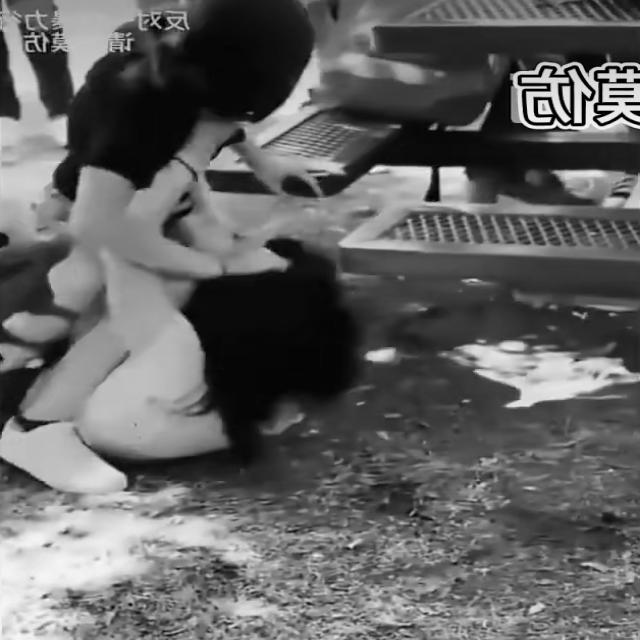fight: (0, 87, 372, 476)
